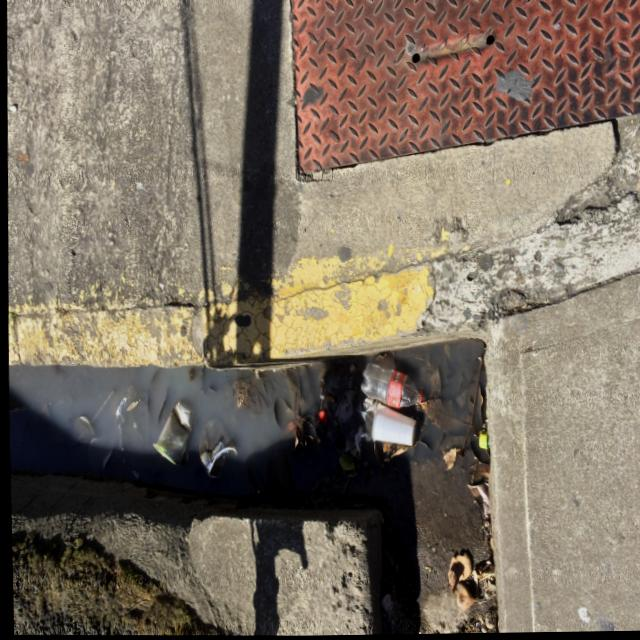Can-Metal: (193, 413, 241, 482)
Paper: (147, 395, 193, 474)
Plastic: (354, 359, 427, 409), (366, 400, 415, 450), (313, 407, 328, 431)
